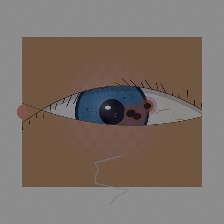foreign_body_visible: (116, 99, 159, 134)
